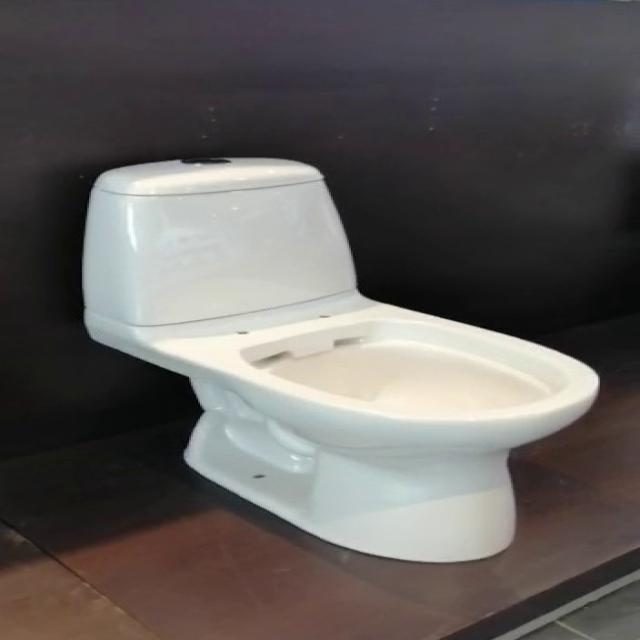toilet: (80, 156, 600, 564)
